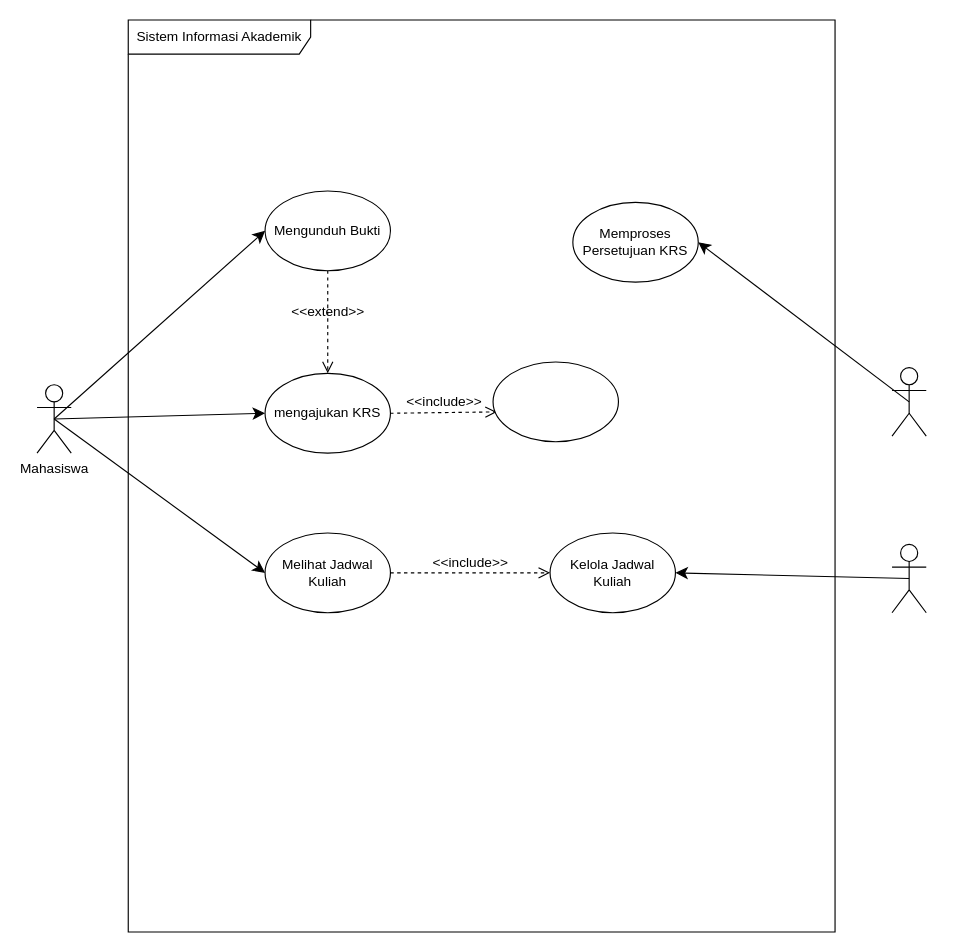
Some shapes in this 979 by 952 pixel diagram are drawn without their labels. The shapes that lost their labels are listed below. From the top down, each one's centre as x and y in pixels, then its label:
At point (555, 401): "Memvalidasi KRS".
At point (908, 401): "Wali Dosen".
At point (908, 578): "Admin Akademik".
